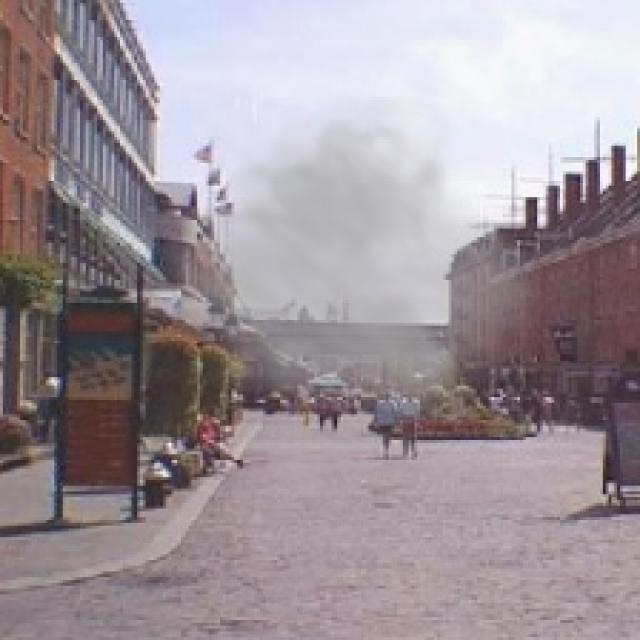Smoke: (146, 80, 554, 423)
